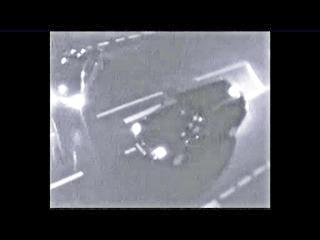Car: (131, 95, 251, 158), (51, 97, 87, 175), (53, 50, 91, 99)
Minor Accident: (49, 47, 107, 183)
